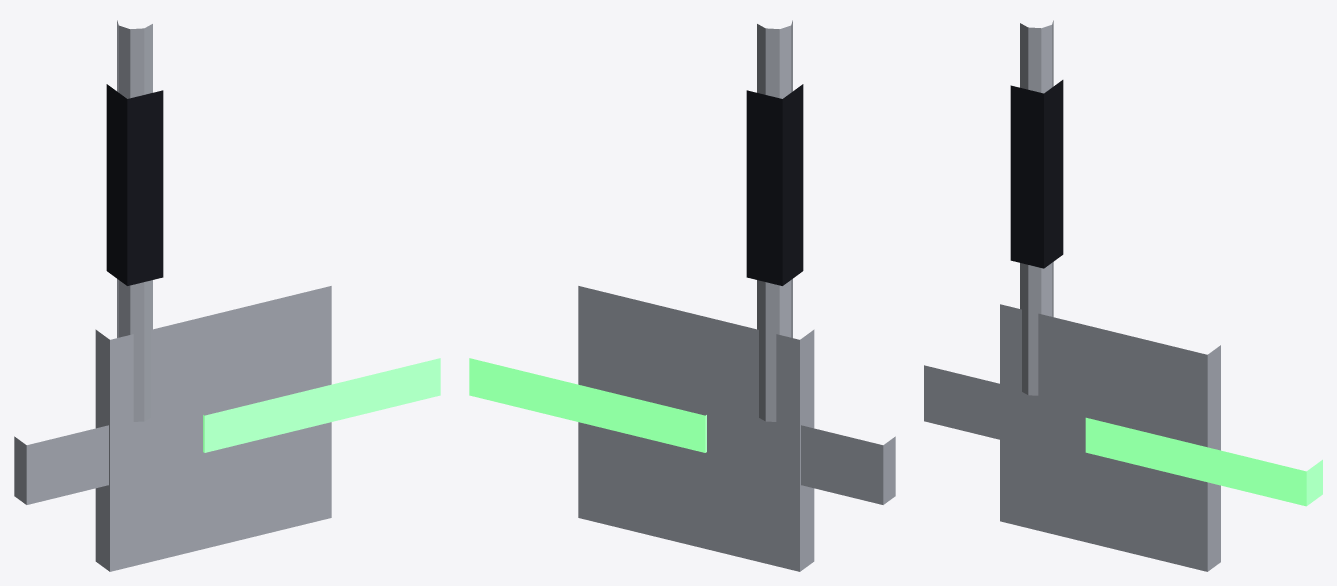
Rendered from battlefury.glb.
3 renders of one model, left to right at view 1: azimuth 30°, elevation 25°; view 2: azimuth 150°, elevation 25°; view 3: azimuth 330°, elevation 25°, orthographic. The views are drawn at different scales.
Visible parts, largest first — view 1: battlefury-cleaver, battlefury-grip-wrap, battlefury-energy-edge, battlefury-haft, battlefury-back-spike; view 2: battlefury-cleaver, battlefury-grip-wrap, battlefury-energy-edge, battlefury-haft, battlefury-back-spike; view 3: battlefury-cleaver, battlefury-grip-wrap, battlefury-energy-edge, battlefury-haft, battlefury-back-spike.
Part boxes in pixels (x1,y1,x2,y2): battlefury-cleaver: (95, 286, 331, 571); battlefury-grip-wrap: (106, 84, 163, 285); battlefury-energy-edge: (203, 358, 440, 452); battlefury-haft: (117, 20, 152, 421); battlefury-back-spike: (14, 425, 108, 504); battlefury-cleaver: (578, 286, 814, 571); battlefury-grip-wrap: (746, 84, 803, 285); battlefury-energy-edge: (469, 358, 706, 452); battlefury-haft: (757, 20, 792, 421); battlefury-back-spike: (801, 425, 895, 504); battlefury-cleaver: (1000, 304, 1220, 571); battlefury-grip-wrap: (1010, 80, 1063, 268); battlefury-energy-edge: (1085, 417, 1322, 506); battlefury-haft: (1020, 20, 1053, 395); battlefury-back-spike: (924, 365, 999, 439).
Size of the model in its own units: 1.15 by 1.44 by 0.1.
